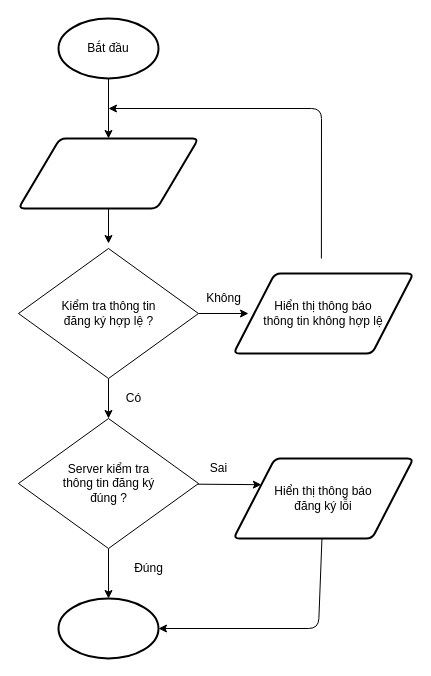
This 431x676 diagram has some shape labels left out. The centre of each missing label's shape, as x and y in pixels:
Kết thúc: point 108,628
Nhập thông tin đăng ký: point 108,173
